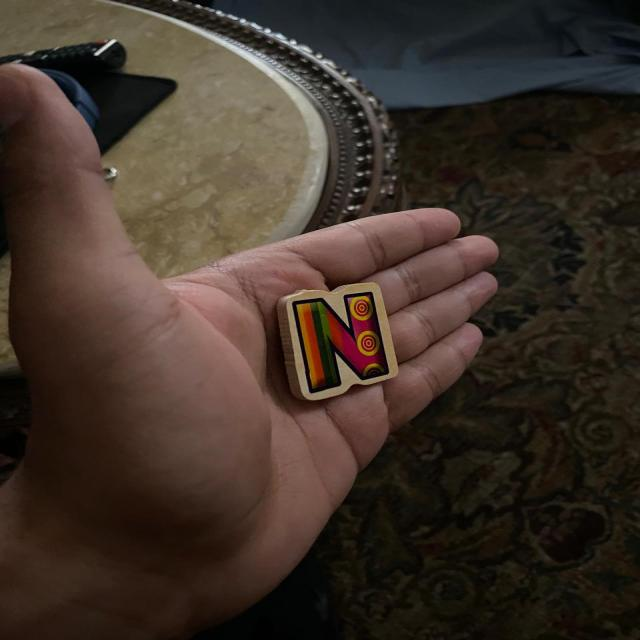N: (279, 284, 396, 400)
